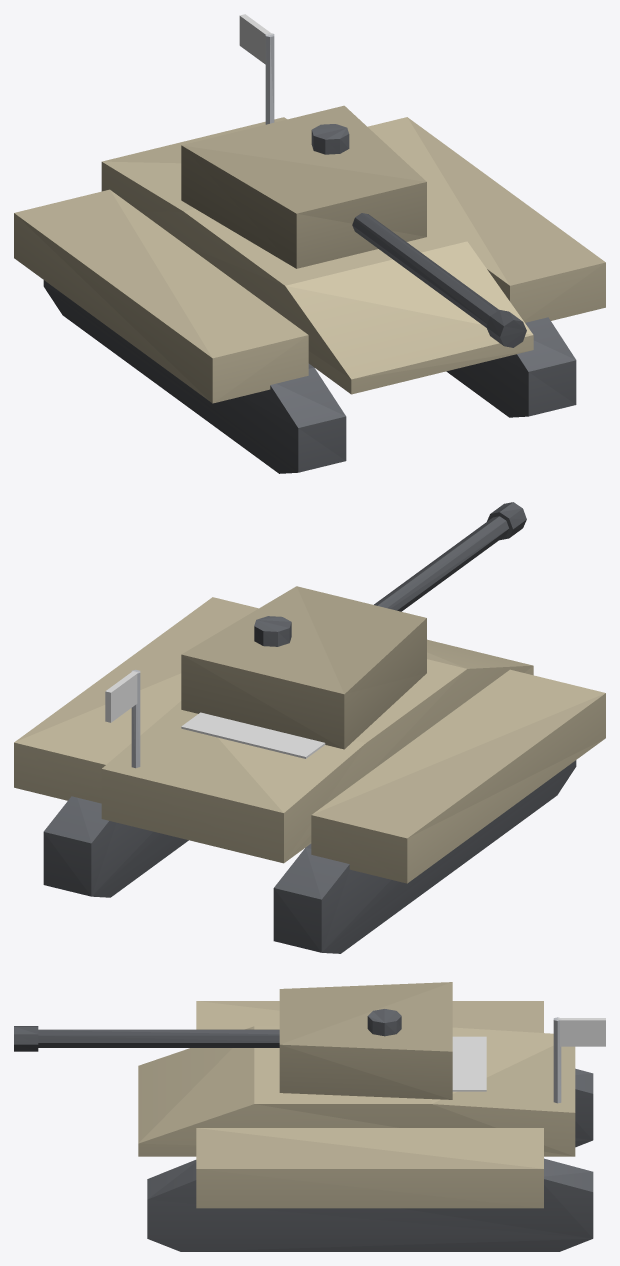
File: Modern Armor.glb
3 views of the same model, one above another, from view 1: azimuth 30°, elevation 25°; view 2: azimuth 150°, elevation 25°; view 3: azimuth 270°, elevation 25° (orthographic). The views are drawn at different scales.
Parts seen in each view (by area): view 1: Body, Part1, Part2; view 2: Body, Part1, Part2; view 3: Body, Part1, Part2.
Part boxes in pixels (x1,y1,x2,y2): Body: (14,14,605,473); Part1: (181,105,426,268); Part2: (352,213,526,347); Body: (14,597,605,953); Part1: (181,586,426,749); Part2: (374,502,526,611); Body: (138,1001,605,1251); Part1: (279,982,452,1099); Part2: (14,1026,279,1051).
Bounding box in the file's own units: 0.82 × 0.46 × 1.22.
